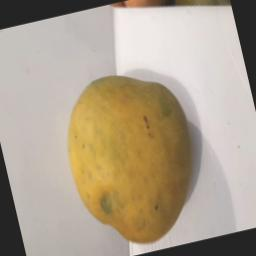Mango Ripe: (43, 54, 219, 256)
